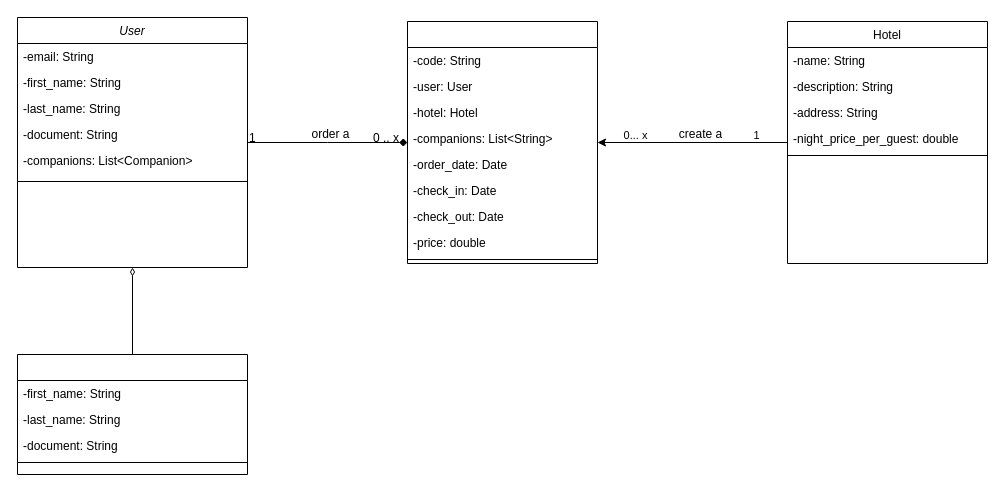
This 1005x492 diagram has some shape labels left out. The box of each missing label's shape, as (x1, y1, x2, y2) in pixels:
Booking: (406, 20, 598, 264)
Companion: (16, 354, 248, 474)
